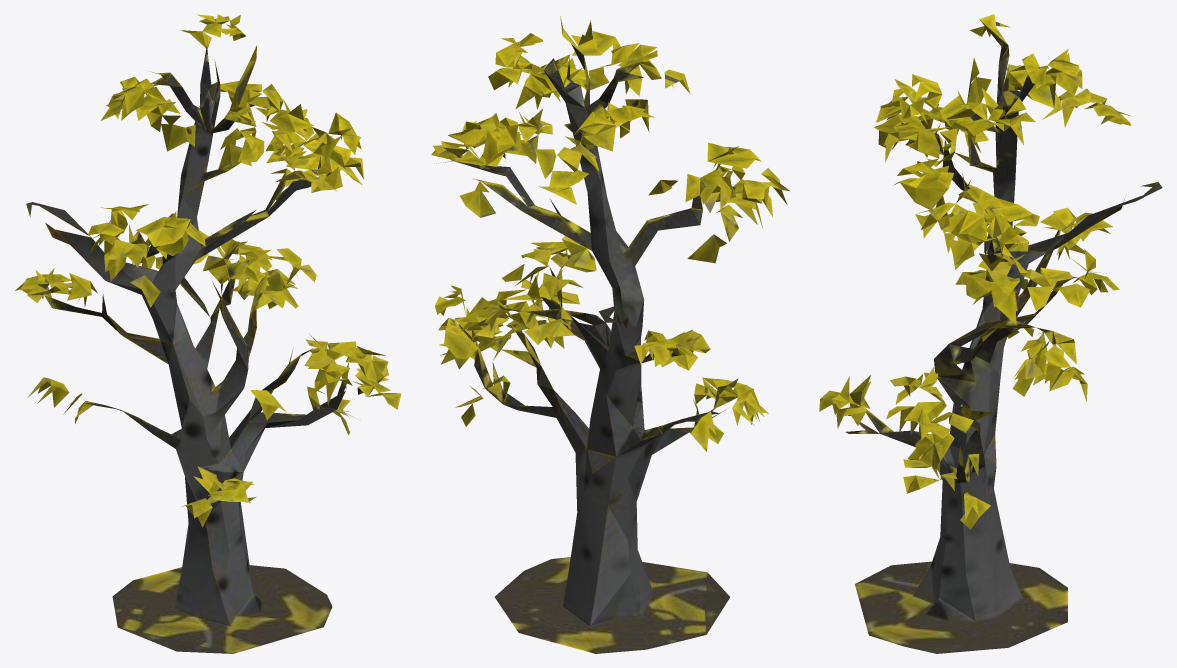
File: tree_birch.glb
3 views of the same model, side by side, from view 1: azimuth 30°, elevation 25°; view 2: azimuth 150°, elevation 25°; view 3: azimuth 270°, elevation 25° (orthographic). The views are drawn at different scales.
Size of the model in its own units: 1.07 by 1.7 by 0.9269.
Materials: 1 (1 with a texture image).
